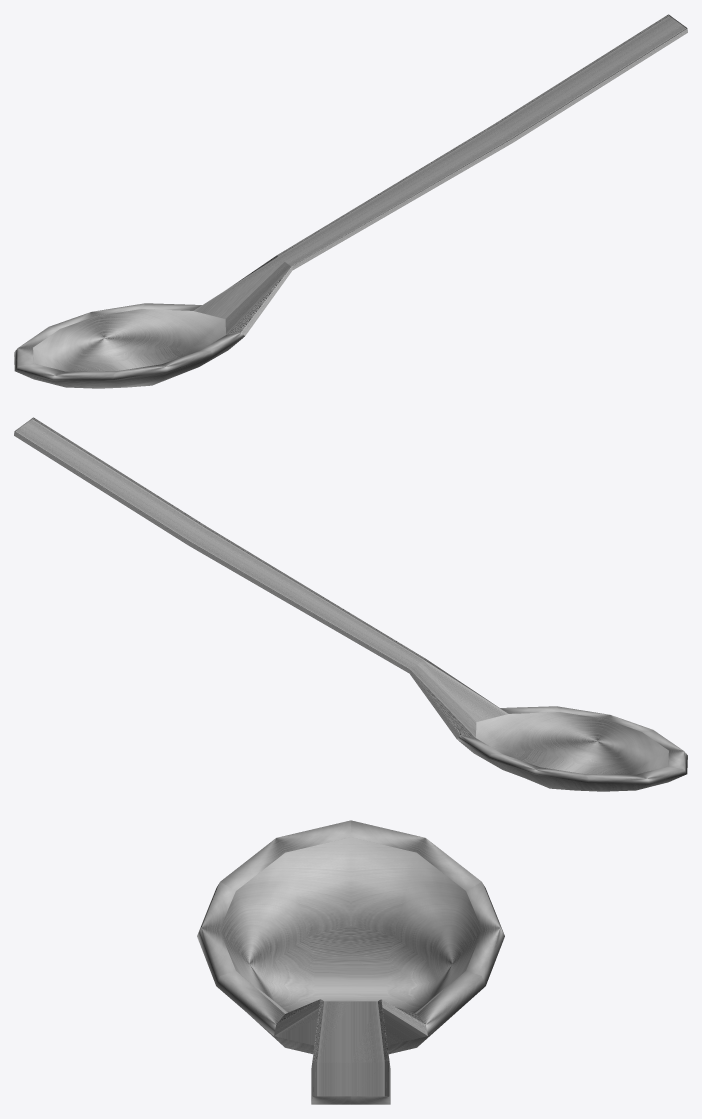
Rendered from spoon.fbx.
3 renders of one model, top to bottom at view 1: azimuth 30°, elevation 25°; view 2: azimuth 150°, elevation 25°; view 3: azimuth 270°, elevation 25°, orthographic. The views are drawn at different scales.
Parts seen in each view (by area): view 1: pSphere1; view 2: pSphere1; view 3: pSphere1.
Part boxes in pixels (x1=…): pSphere1: x1=14, y1=14, x2=687, y2=388; pSphere1: x1=14, y1=417, x2=687, y2=791; pSphere1: x1=197, y1=820, x2=504, y2=1104.
Bounding box in the file's own units: 3.57 × 1.13 × 0.7185.
